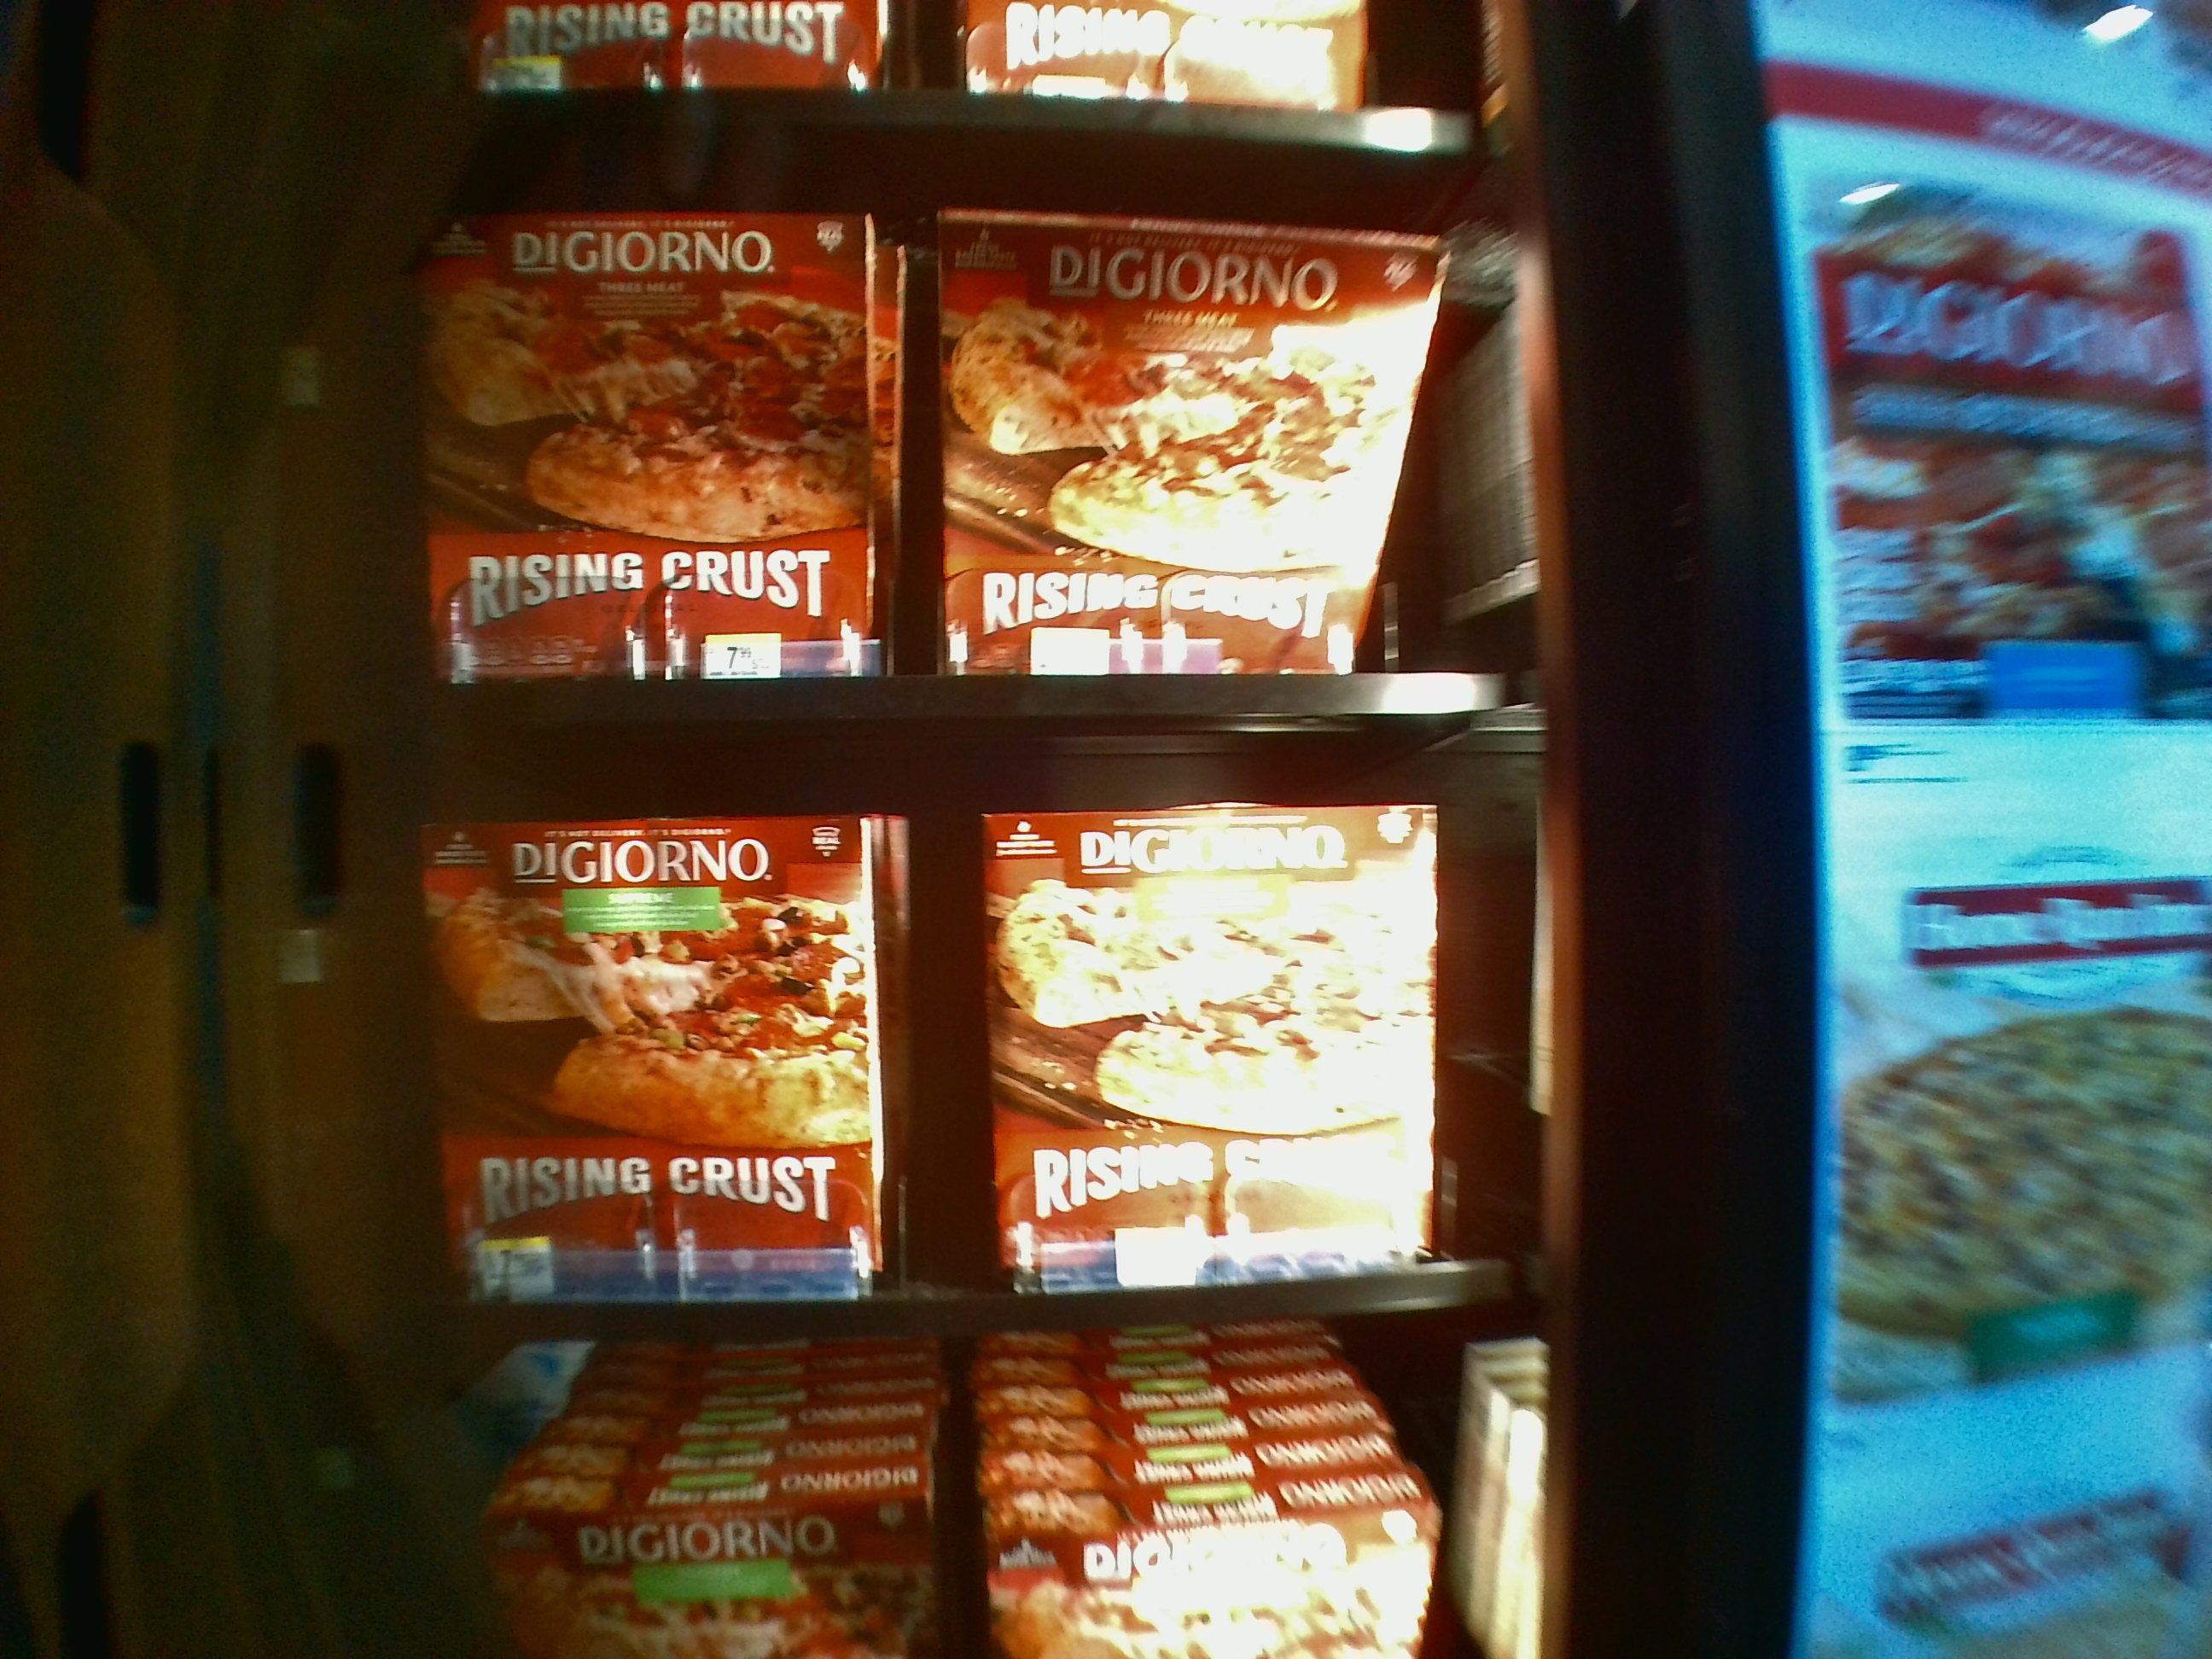shelf: (378, 150, 1531, 732), (390, 749, 1507, 1347)
